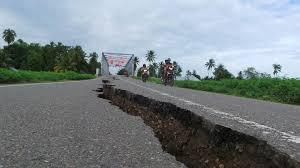Pothole: (86, 74, 295, 168)
